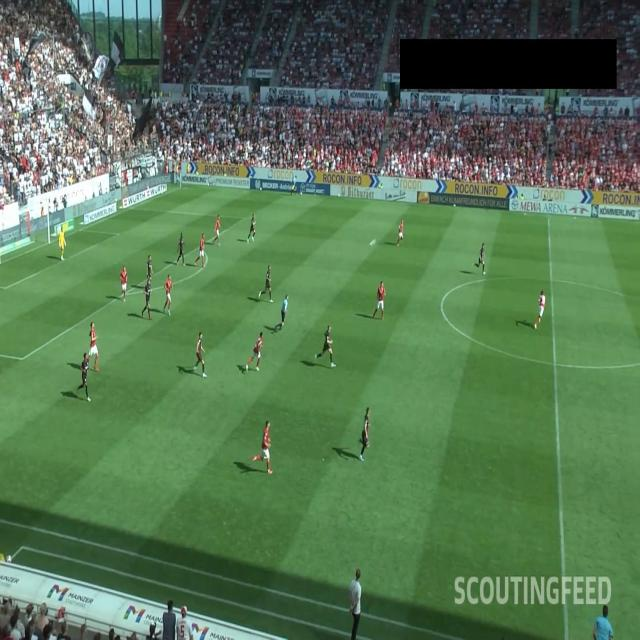ball: (369, 238, 376, 248)
